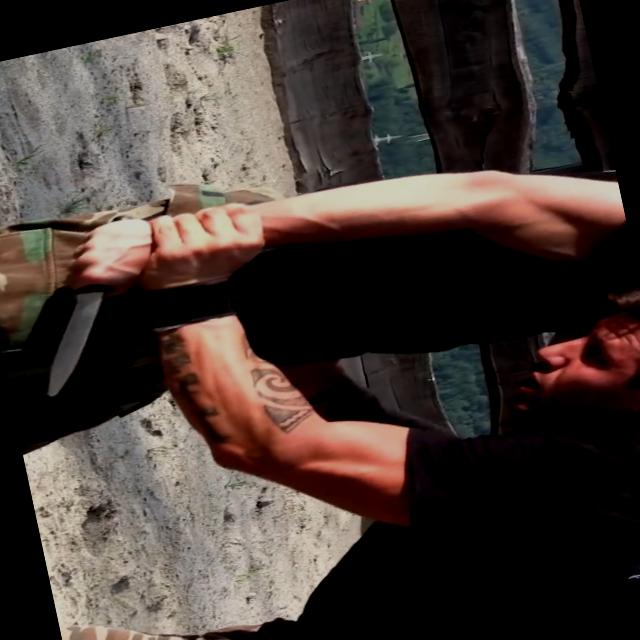knife: (2, 210, 174, 402)
